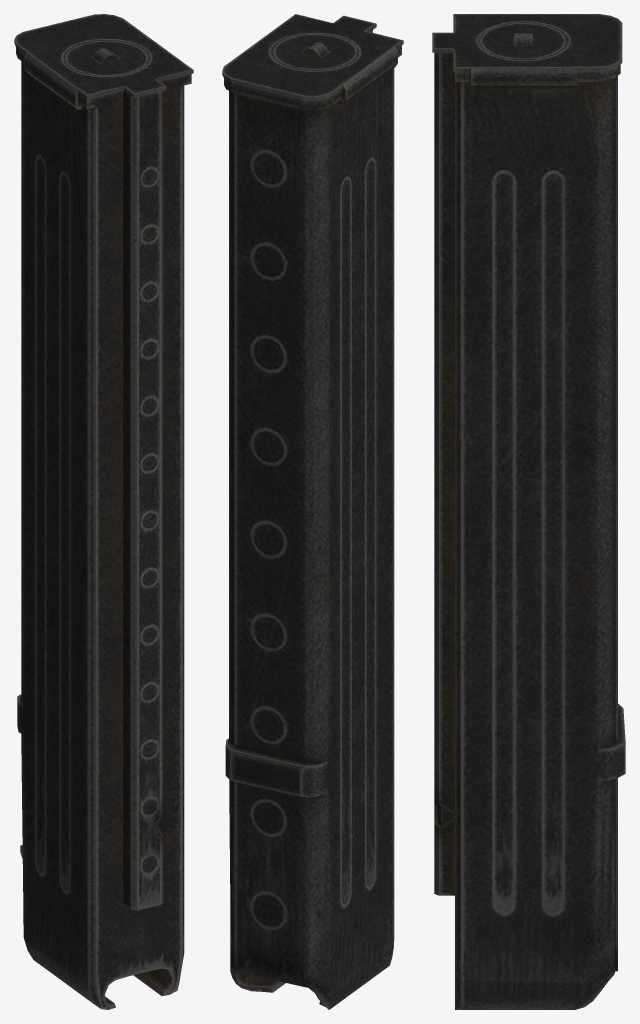
The picture shows the model from 3 angles, left to right: view 1: azimuth 30°, elevation 25°; view 2: azimuth 150°, elevation 25°; view 3: azimuth 270°, elevation 25°; orthographic projection. The views are drawn at different scales.
Parts seen in each view (by area): view 1: TW_57d1519e24597714373db79d_PZ_Import; view 2: TW_57d1519e24597714373db79d_PZ_Import; view 3: TW_57d1519e24597714373db79d_PZ_Import.
Part boxes in pixels (left/top/right/bottom): TW_57d1519e24597714373db79d_PZ_Import: left=14, top=14, right=193, bottom=1009; TW_57d1519e24597714373db79d_PZ_Import: left=222, top=14, right=403, bottom=1009; TW_57d1519e24597714373db79d_PZ_Import: left=432, top=14, right=625, bottom=1009.
Bounding box in the file's own units: 0.0139 × 0.0202 × 0.1103.
1 material, 1 textured.
